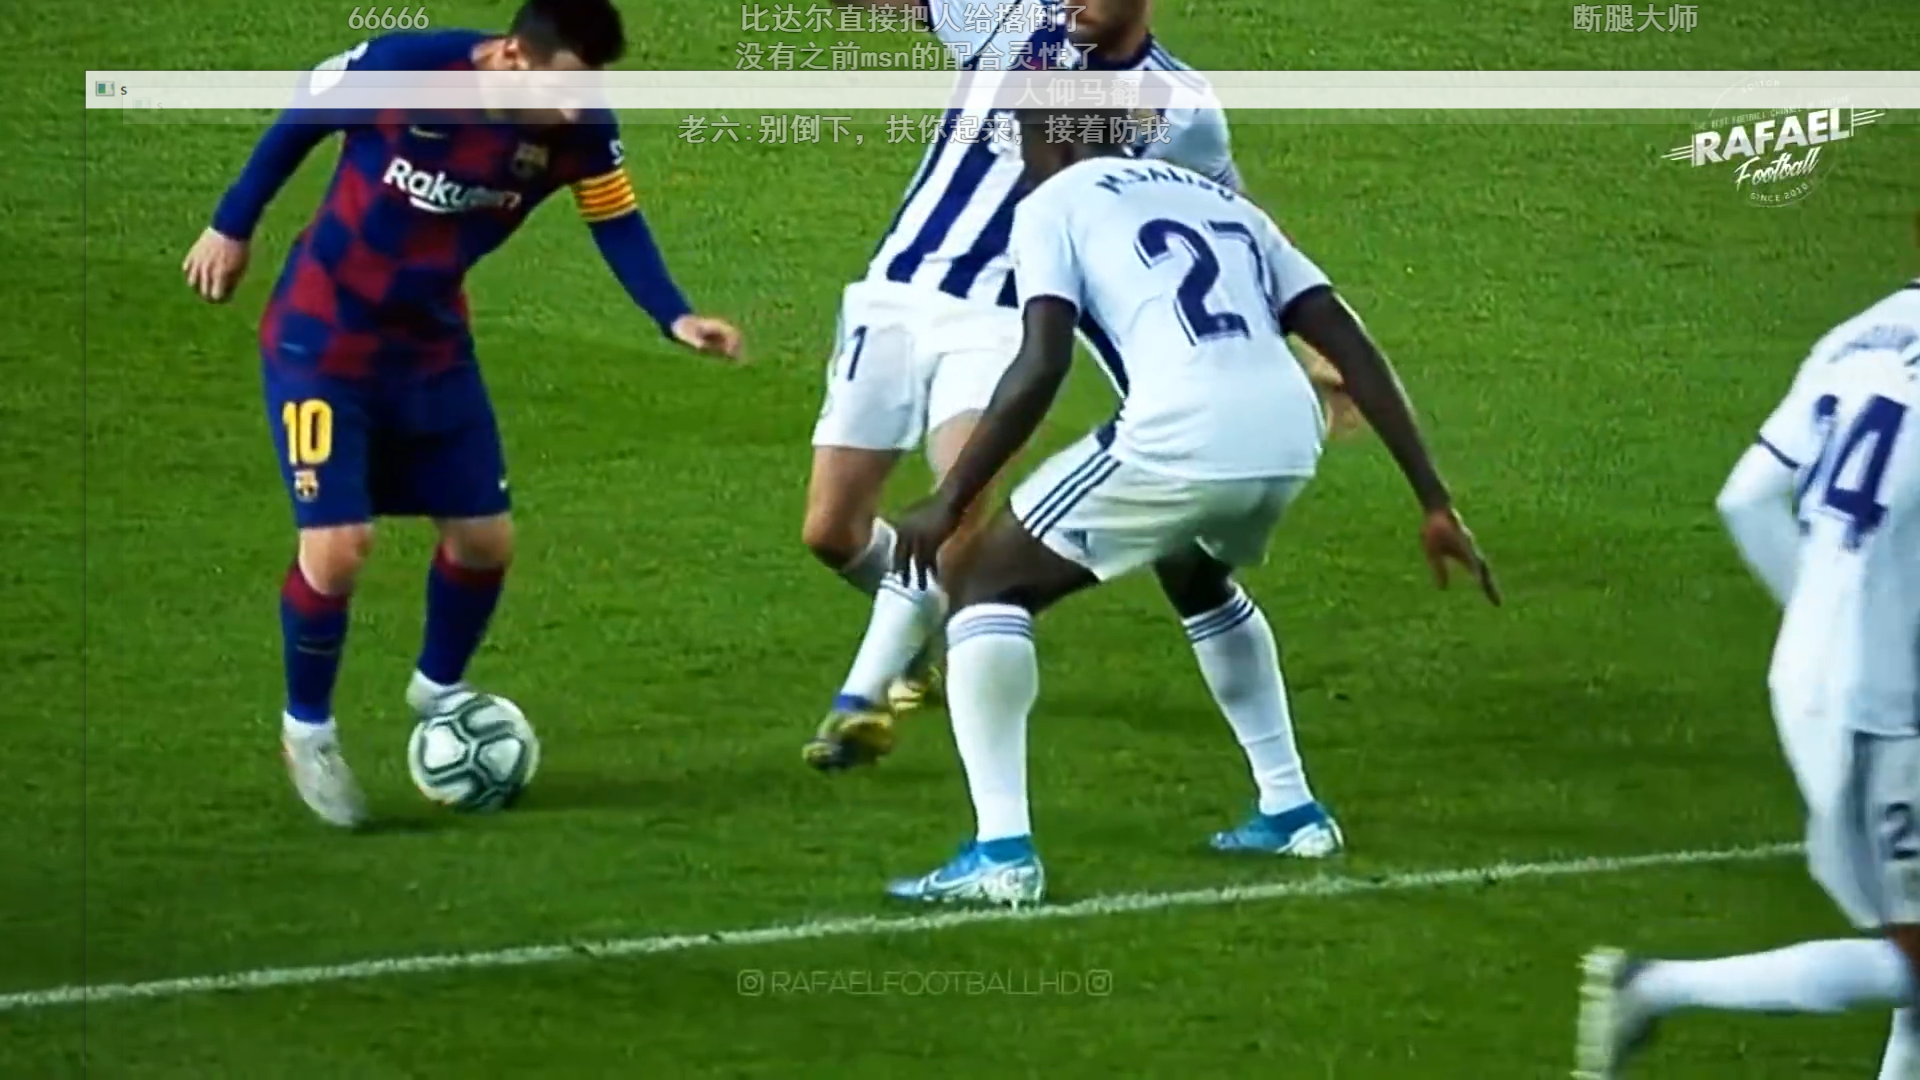ft: (404, 680, 546, 824)
